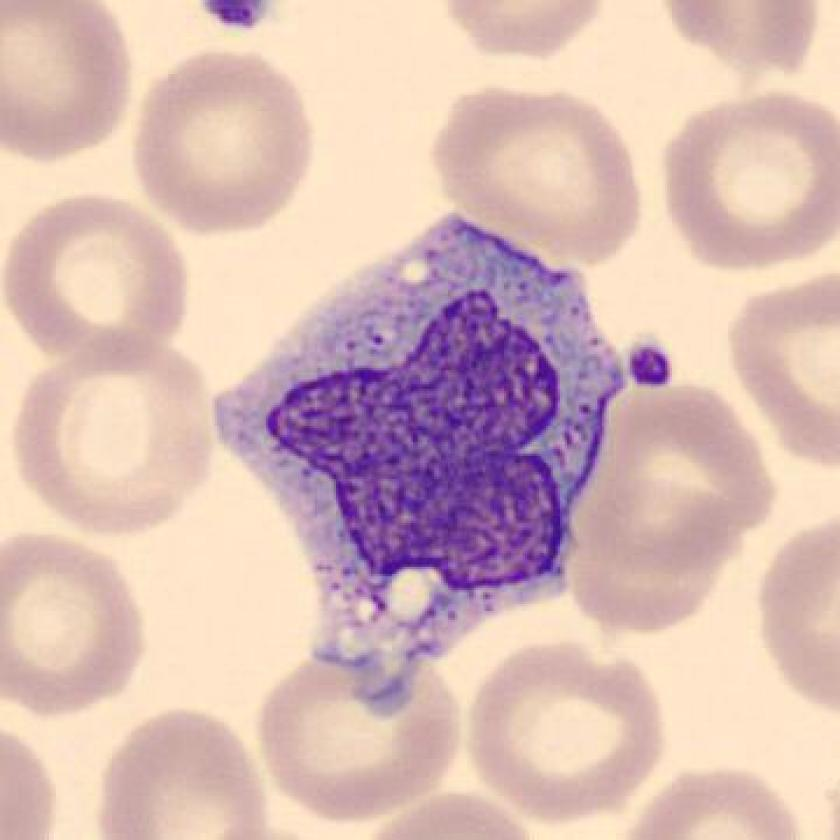monocyte: (190, 195, 640, 723)
